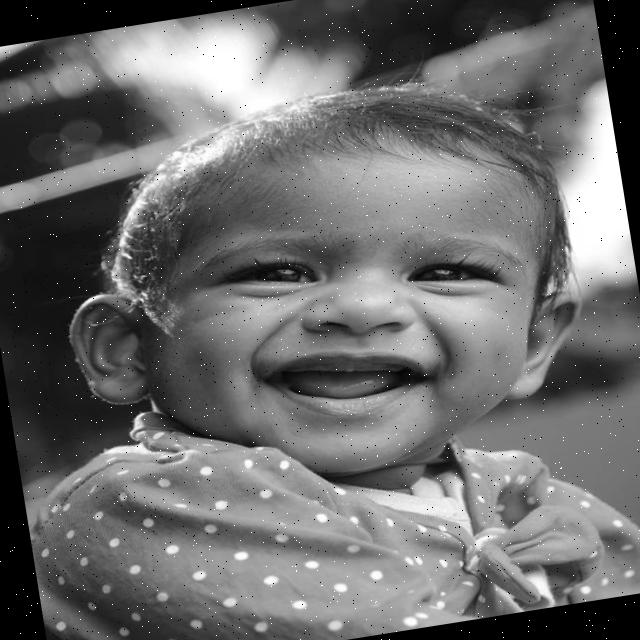Happiness: (125, 126, 586, 505)
